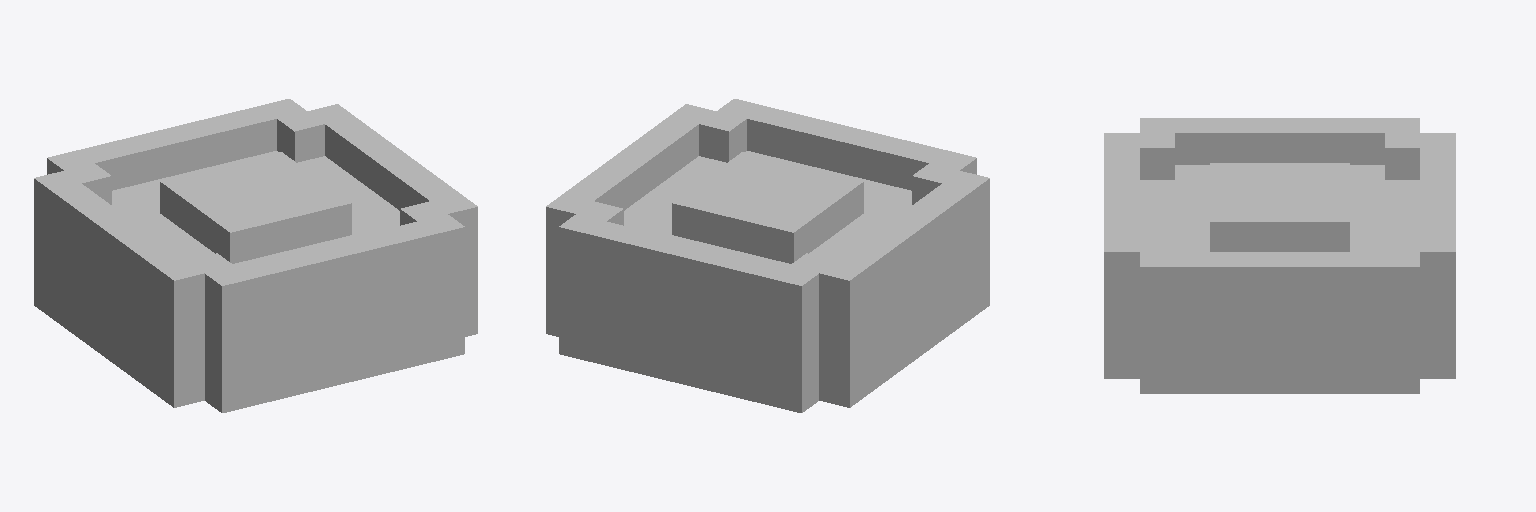
3 renders of one model, left to right at view 1: azimuth 30°, elevation 25°; view 2: azimuth 150°, elevation 25°; view 3: azimuth 270°, elevation 25°, orthographic.
Parts seen in each view (by area): view 1: Base; view 2: Base; view 3: Base.
Part boxes in pixels (x1,y1,x2,y2): Base: (34, 99, 477, 412); Base: (546, 99, 989, 412); Base: (1104, 118, 1455, 393).
Bounding box in the file's own units: 1 × 0.4 × 1.